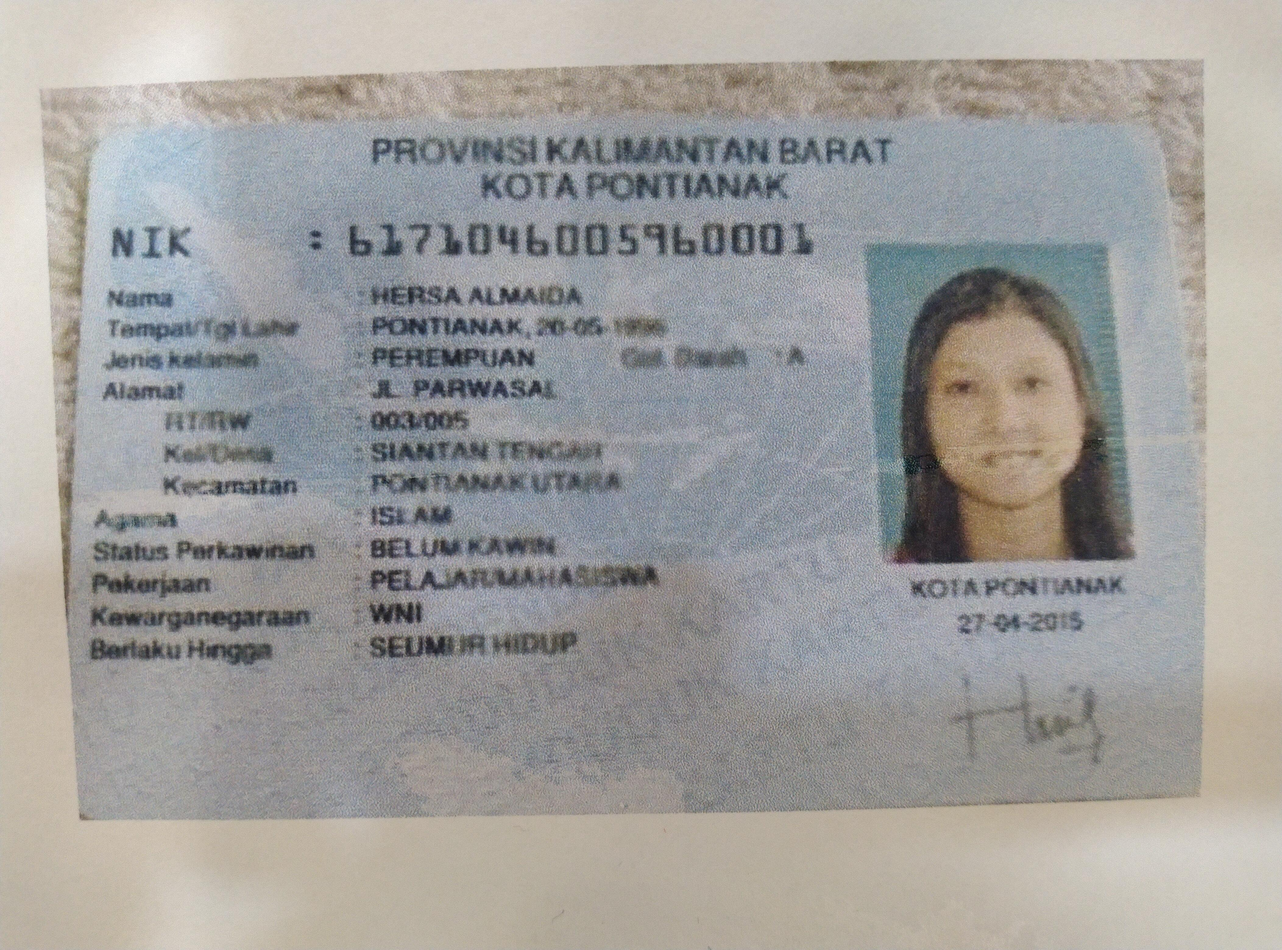ID-card: (89, 122, 1201, 801)
